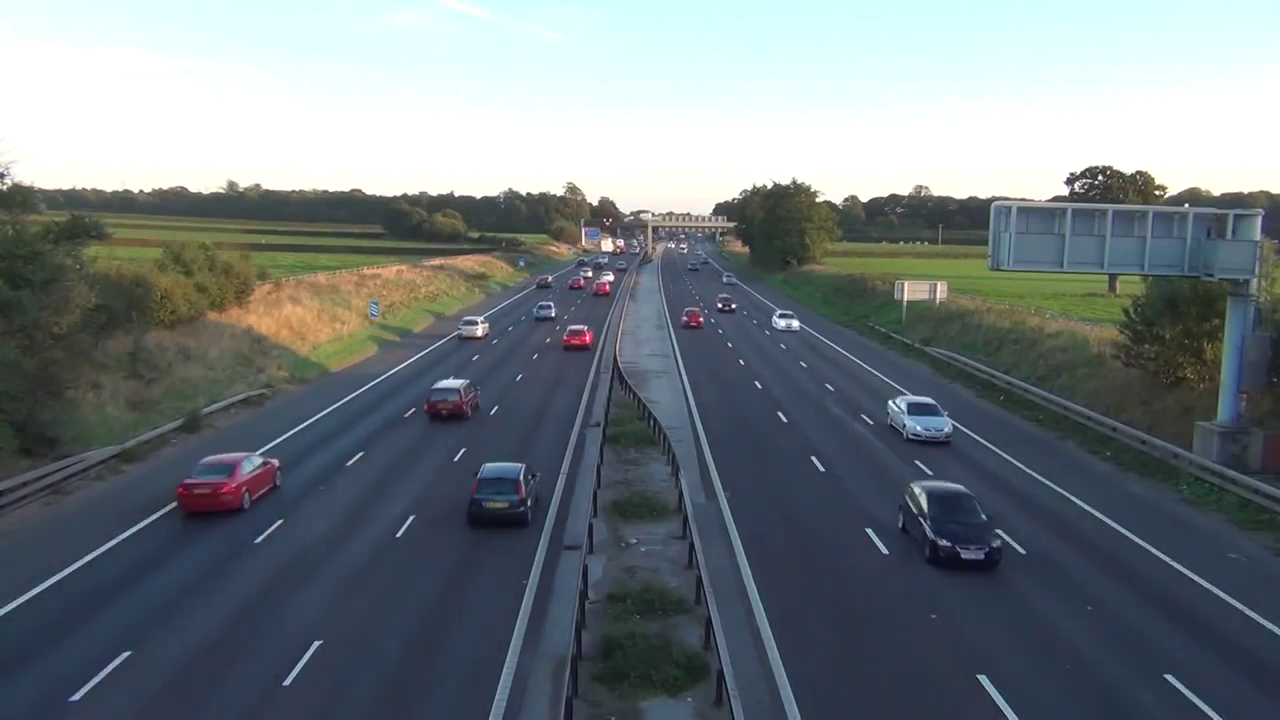Car: (882, 482, 1011, 573), (180, 444, 290, 529), (462, 456, 547, 533), (880, 387, 960, 454), (417, 372, 492, 423), (674, 297, 712, 333), (767, 306, 809, 336), (560, 317, 595, 353), (451, 310, 489, 340), (528, 297, 559, 323), (714, 289, 742, 317), (589, 276, 613, 298), (570, 270, 593, 289), (532, 272, 553, 291)
License_Plate: (956, 541, 988, 562), (485, 495, 515, 514)
